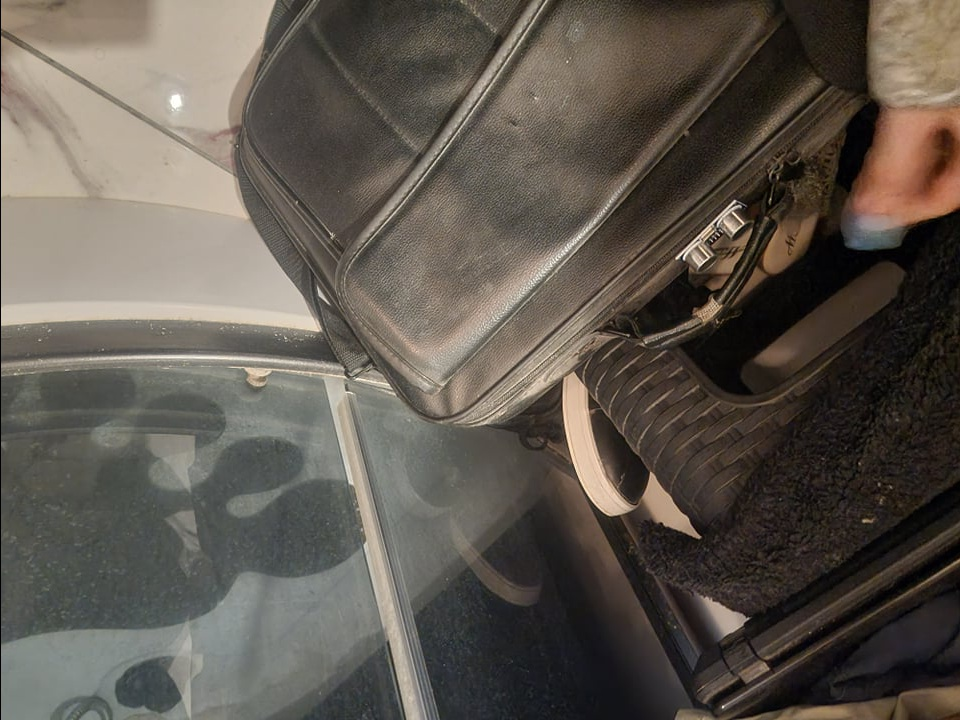SENSOR: (667, 203, 758, 276)
